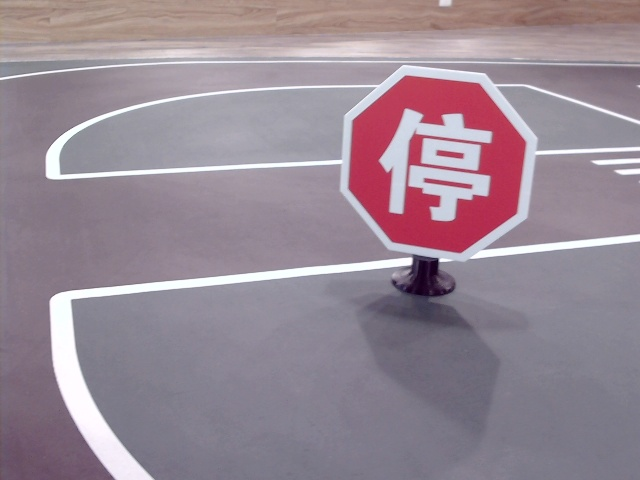stop: (386, 97, 489, 226)
